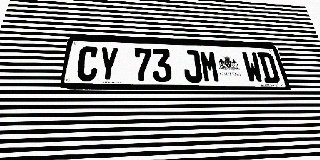3: (152, 49, 172, 82)
7: (133, 48, 152, 82)
C: (75, 46, 99, 81)
D: (257, 52, 281, 83)
J: (182, 50, 203, 83)
M: (199, 50, 221, 83)
W: (241, 52, 265, 83)
Y: (97, 47, 119, 82)
